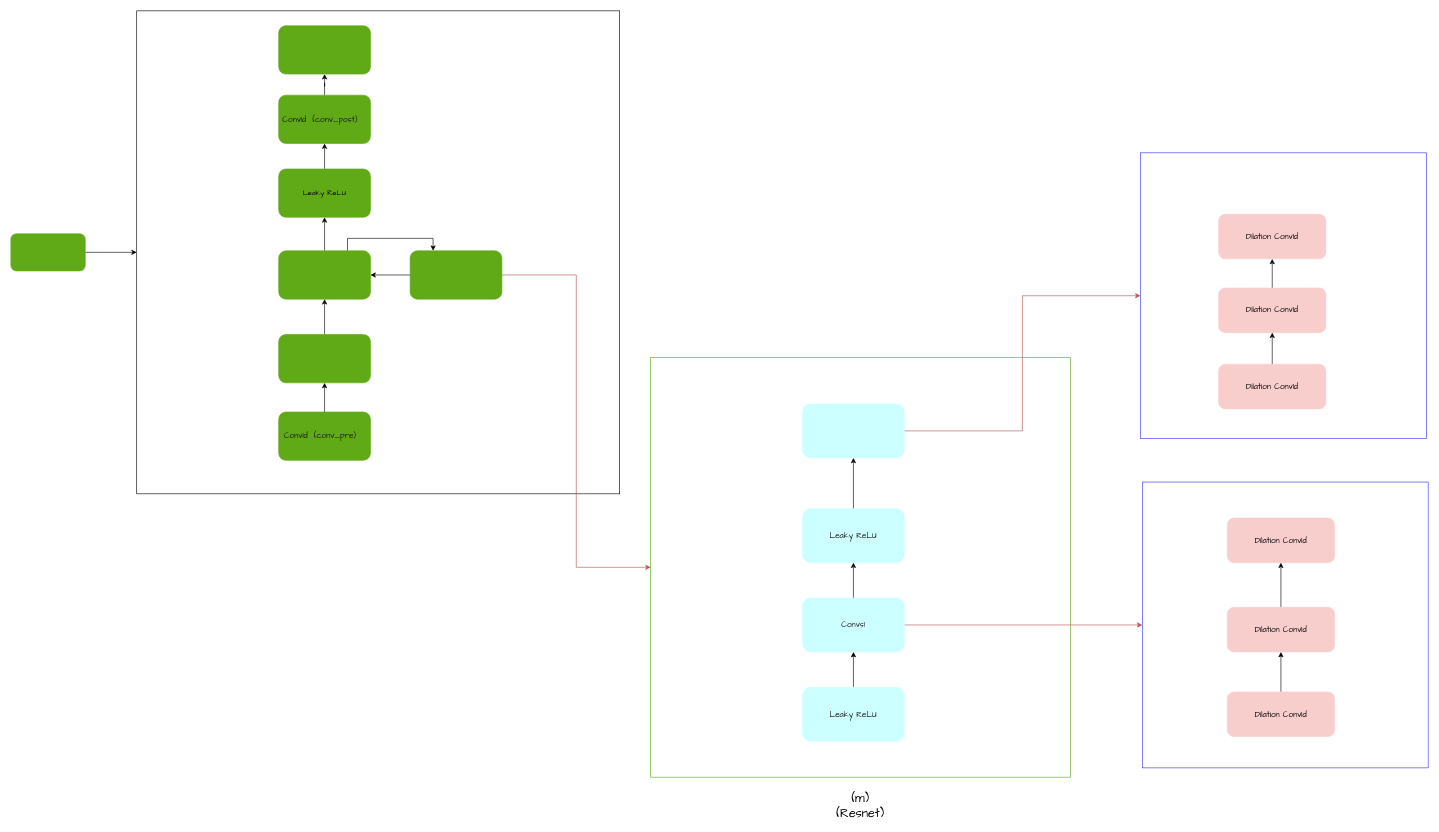
This 1439x832 diagram has some shape labels left out. The centre of each missing label's shape, as x and y in pixels:
"Condition" goes at [324,358].
"Convs2" goes at [853,430].
"Decoder" goes at [47,252].
"Leaky ReLU ConvTranspose1d （n (m)）" goes at [324,274].
"ResBlocks （m）" goes at [456,274].
"Tanh" goes at [324,49].
